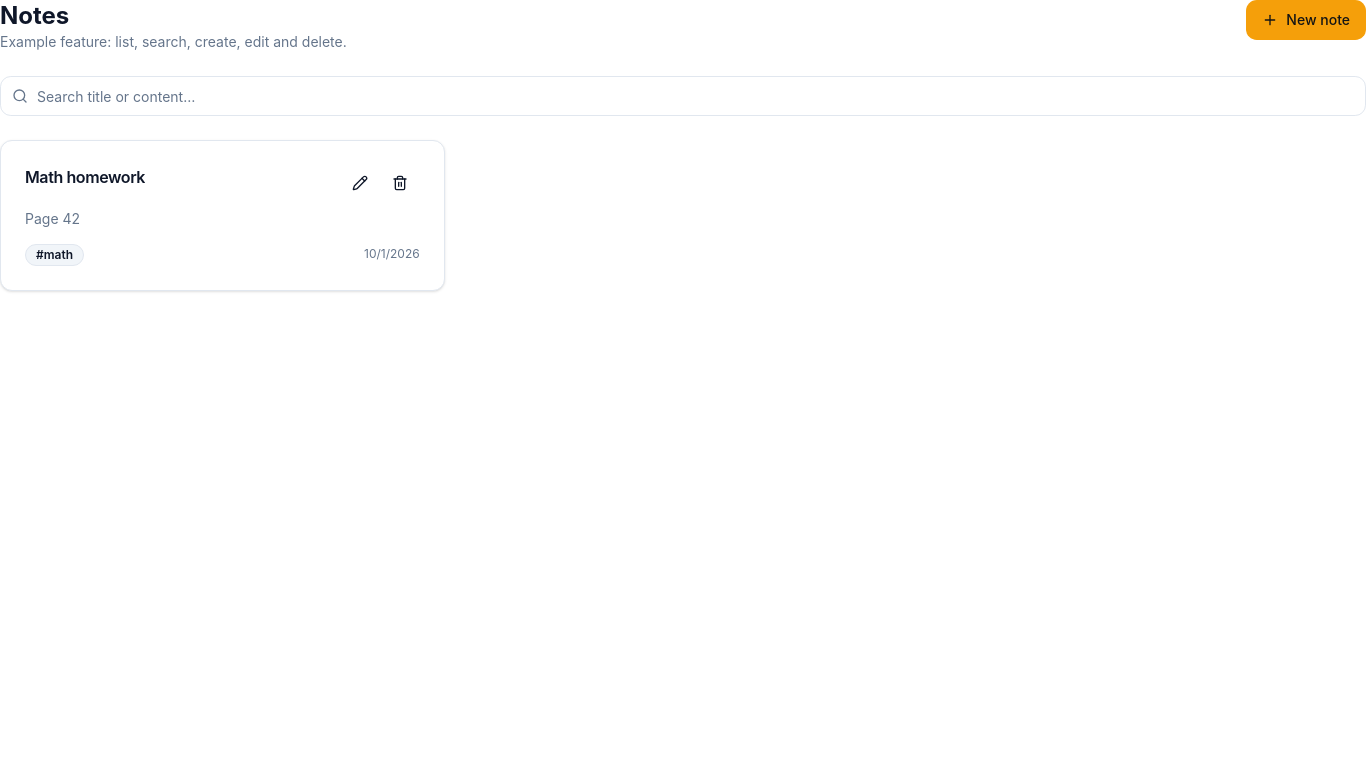
NotesListPage › creates a note from the dialog, splitting the tags
Expected: the heading "Math homework" is shown, [25,165,145,189]
Step 1. Click the button "New note" → (1306, 20), box [1246,0,1365,40]
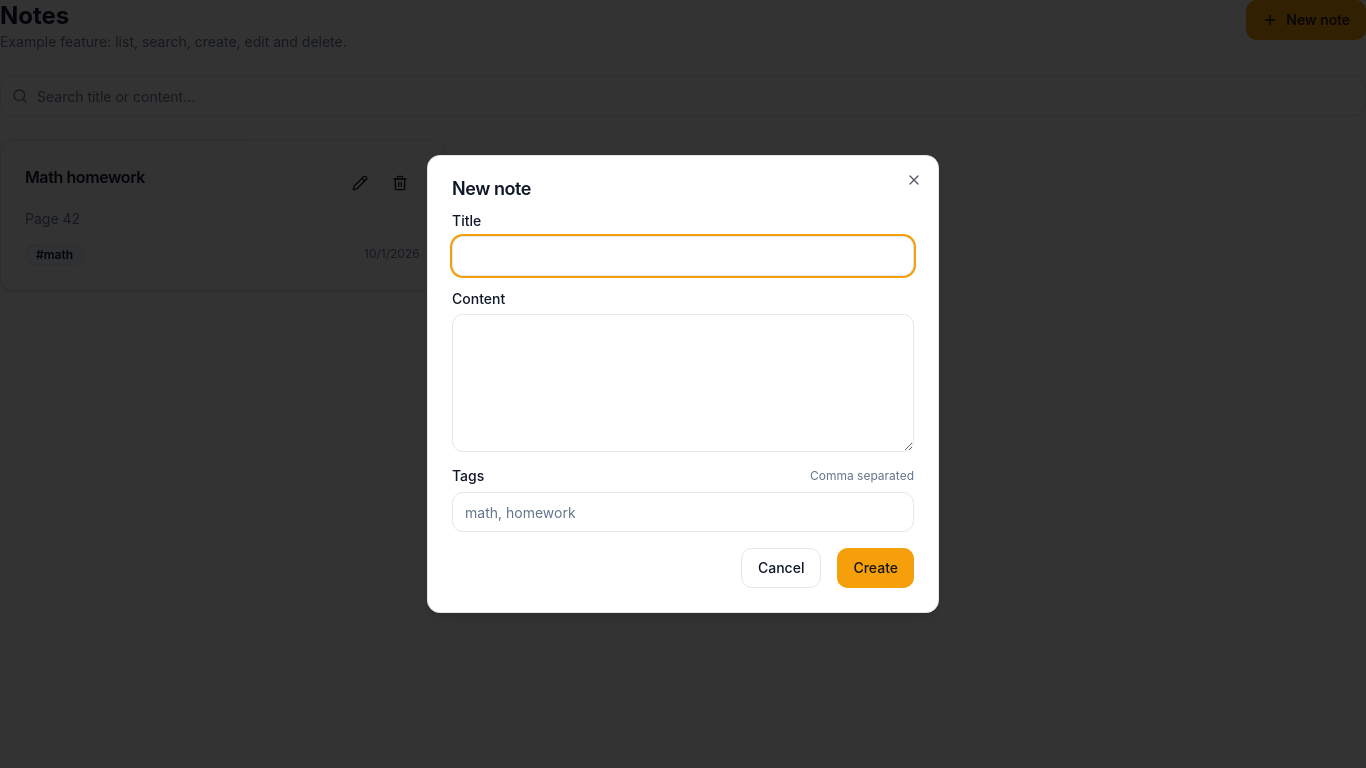
Step 2. Type "Essay" into the field labelled "Title" → (683, 256), box [452,236,914,276]
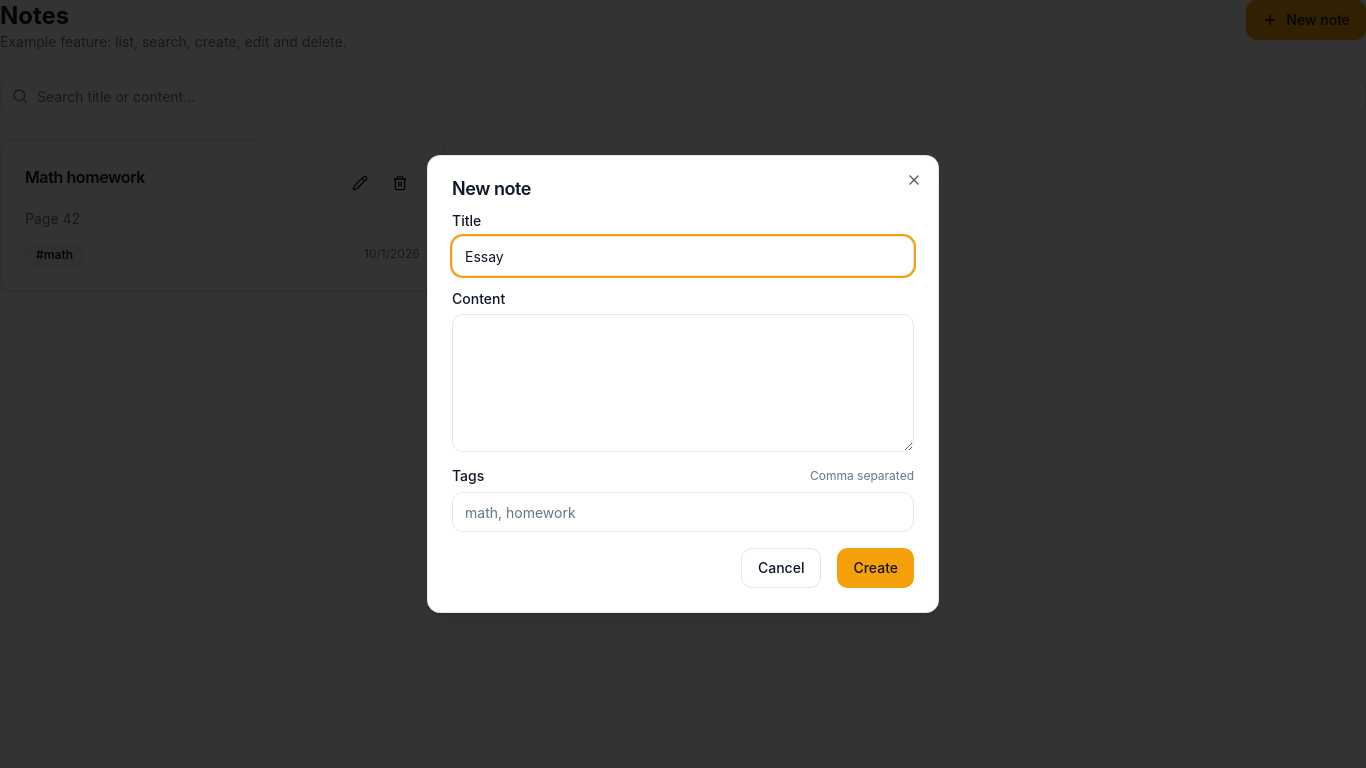
Step 3. Type "english, draft ," into the field labelled "Tags" → (683, 512), box [452,492,914,532]
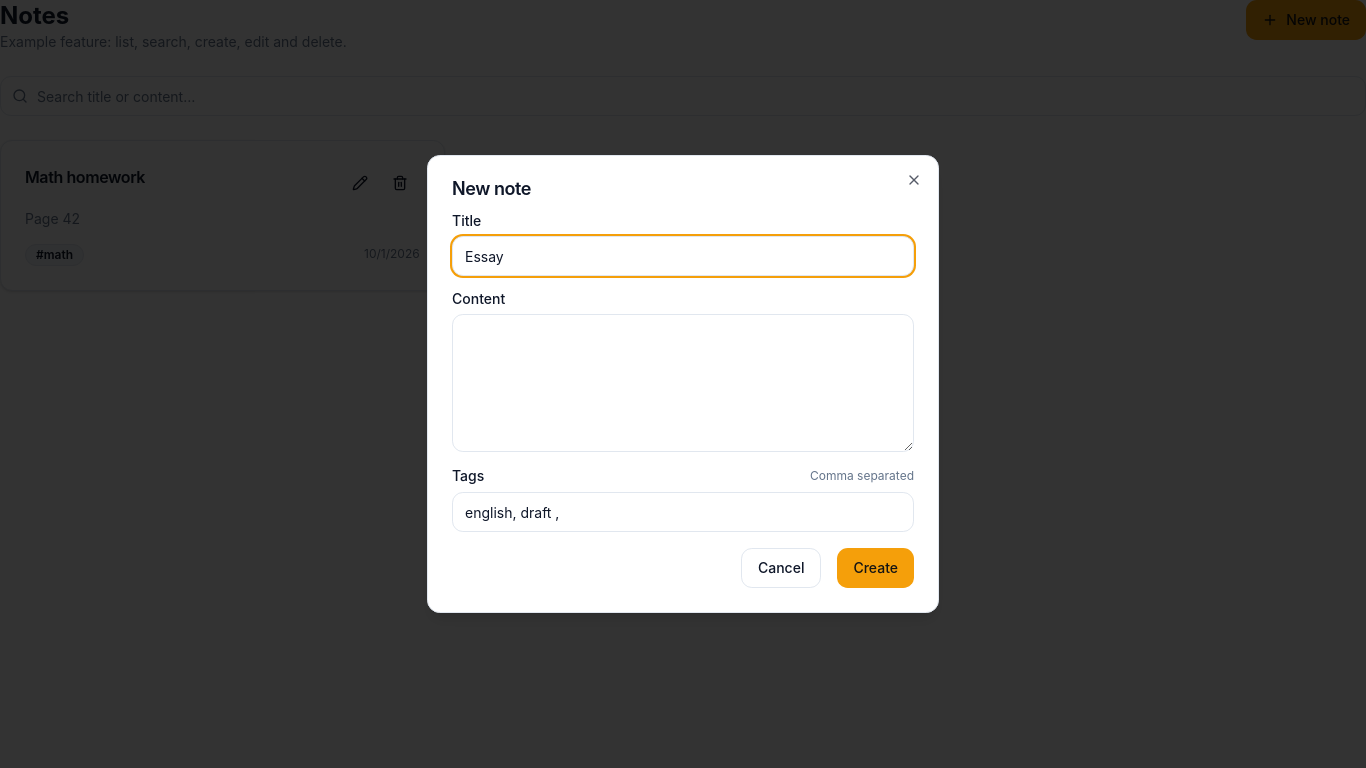
Step 4. Click the button "Create" → (876, 568), box [837,548,914,588]
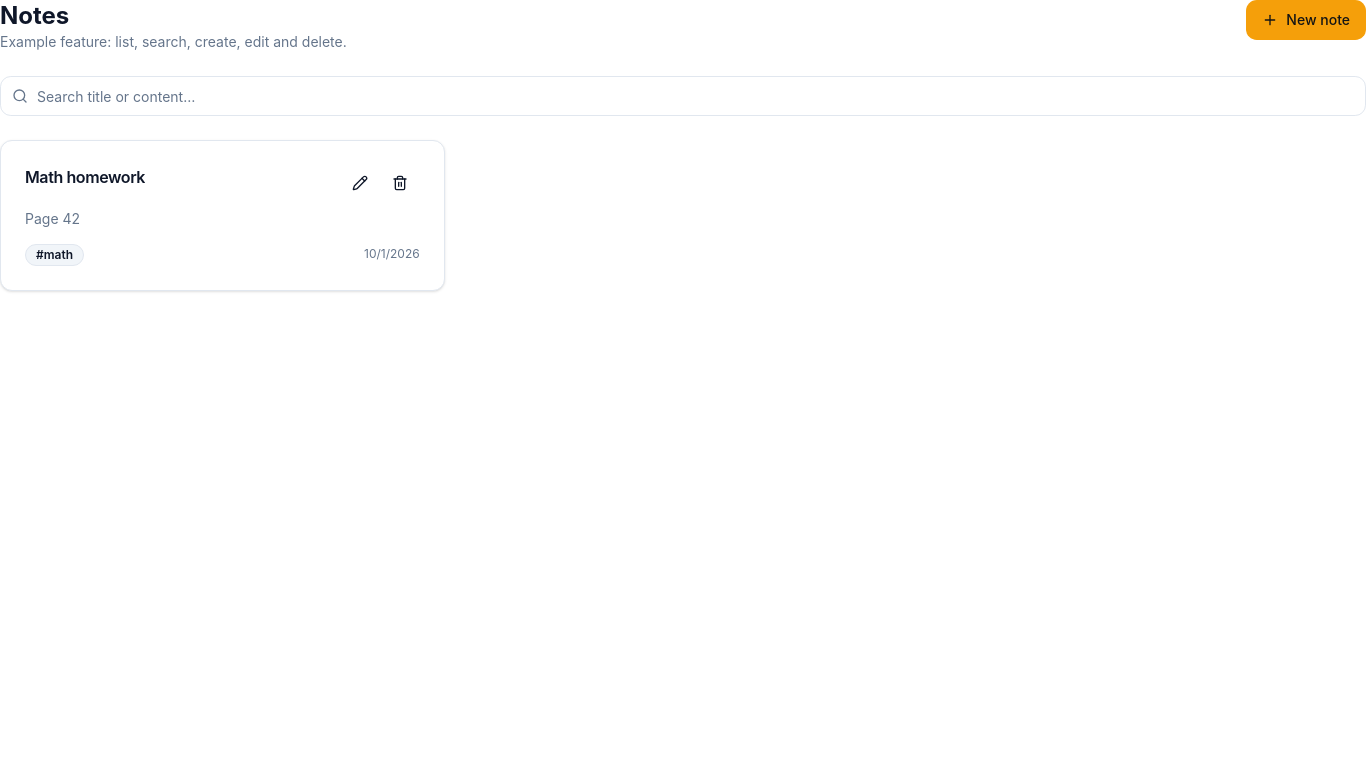
Now the dialog is gone
